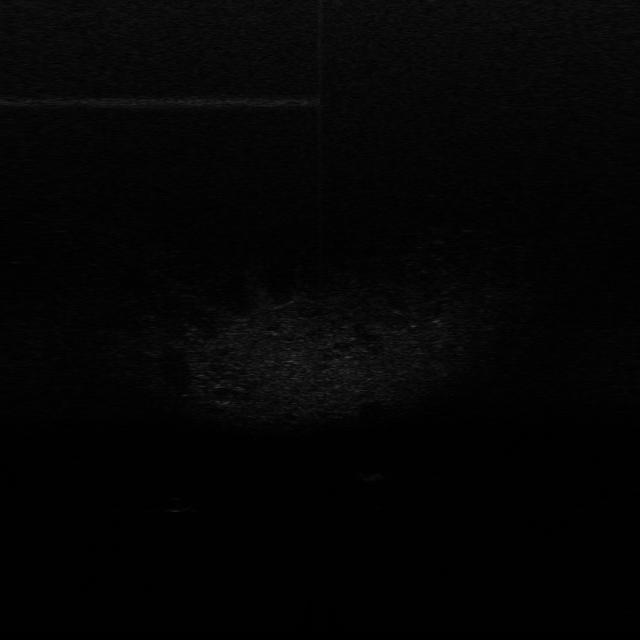ball: (162, 496, 196, 515)
cube: (353, 471, 386, 484)
